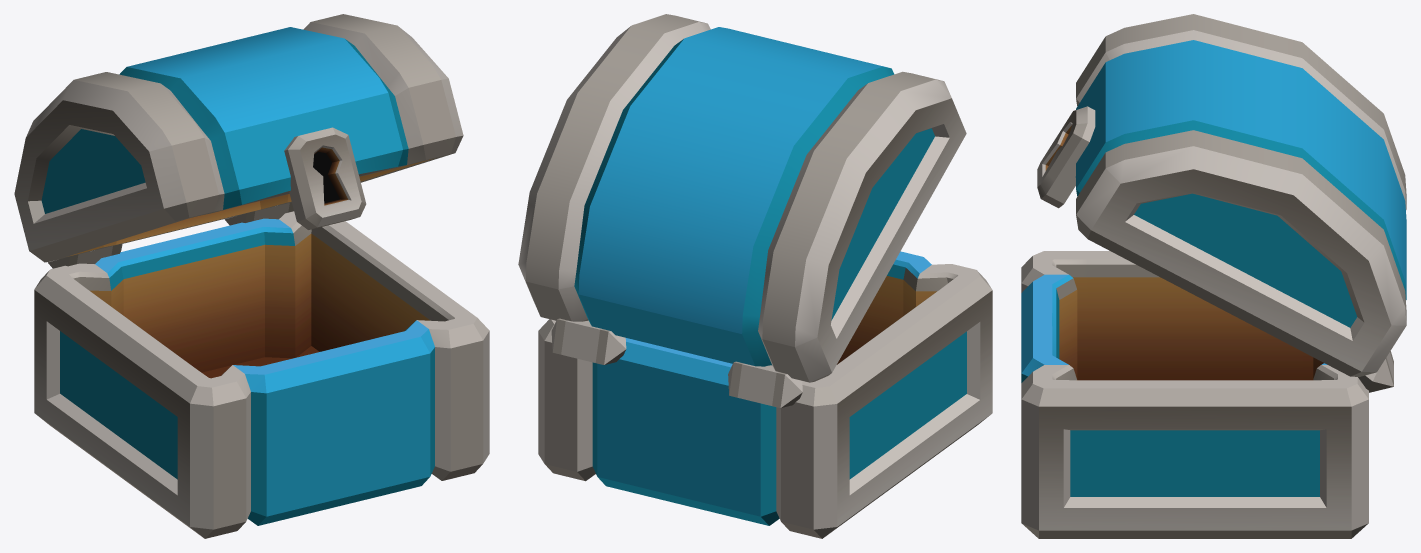
Rendered from m_deco_chestB_open.FBX.
3 views of the same model, side by side, from view 1: azimuth 30°, elevation 25°; view 2: azimuth 150°, elevation 25°; view 3: azimuth 270°, elevation 25° (orthographic).
Visible parts, largest first — view 1: m_deco_chestB_open; view 2: m_deco_chestB_open; view 3: m_deco_chestB_open.
Boxes of the visible parts, x1,y1,x2,y2 form: m_deco_chestB_open: [14, 14, 489, 538]; m_deco_chestB_open: [518, 14, 992, 538]; m_deco_chestB_open: [1021, 14, 1406, 538].
Size of the model in its own units: 2 by 2.5 by 2.22.
